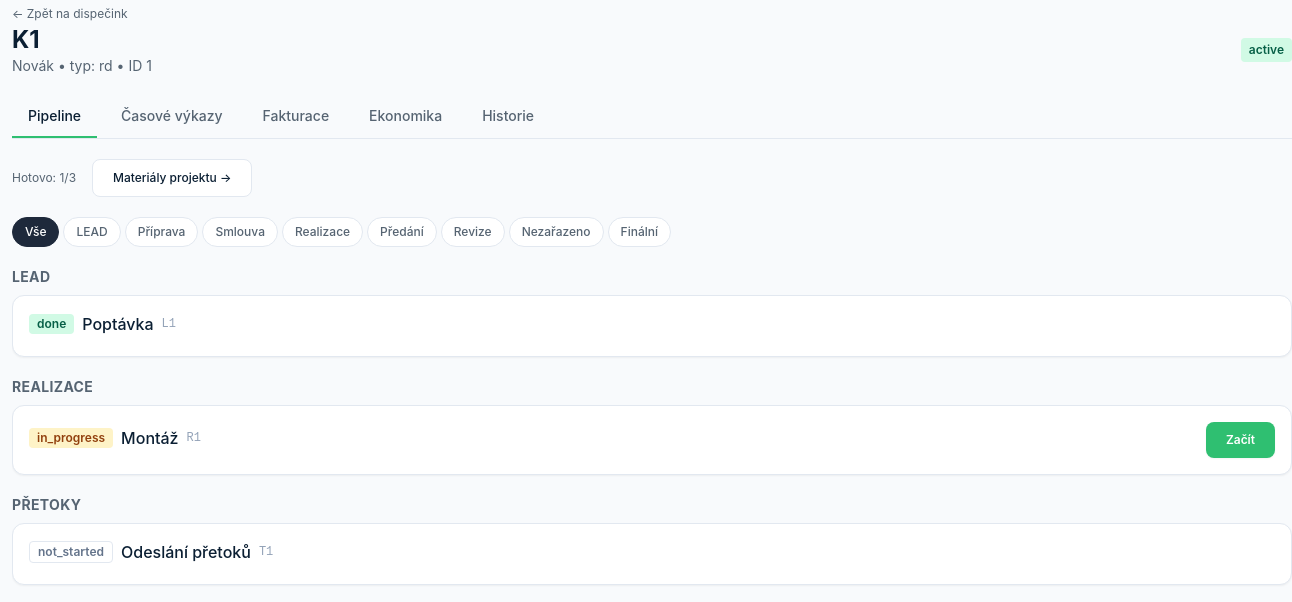
Scenario: PipelineDetail — sub-taby fází › klik na tab fáze filtruje sekce
Expected: the text "Montáž" is shown, top-left (121, 426), bottom-right (179, 450)
Click the button "LEAD".
click(92, 232)  # box top-left (64, 217), bottom-right (121, 247)
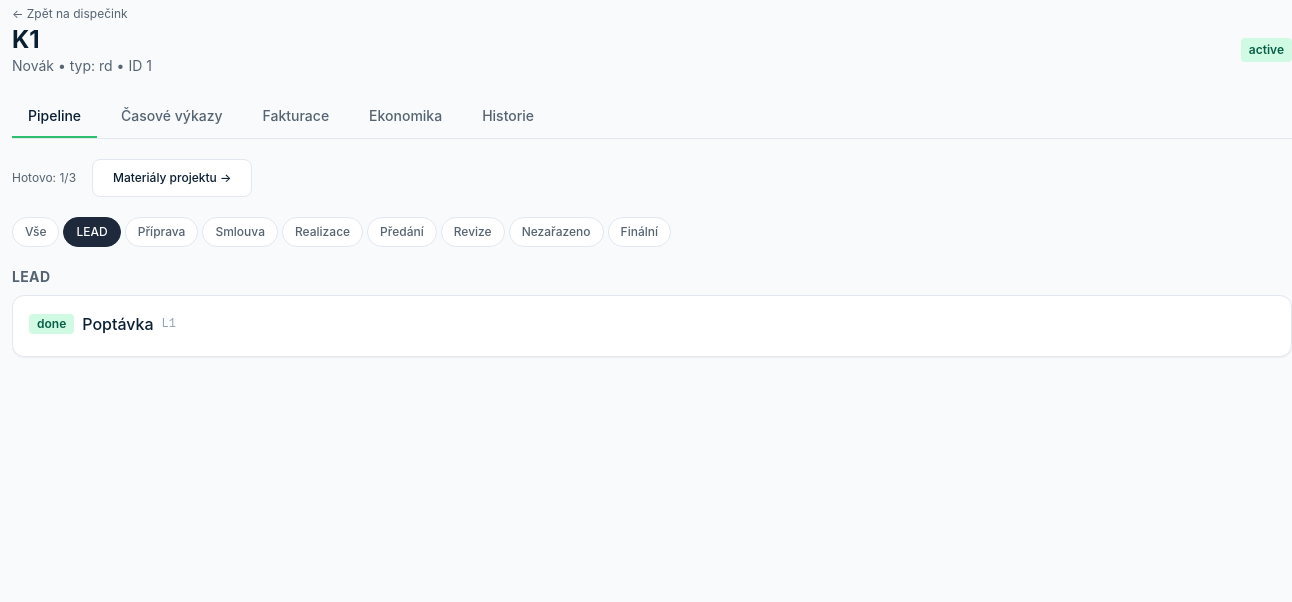
Expected: the text "Poptávka" is shown, top-left (82, 312), bottom-right (154, 336)
Result: the text "Montáž" is gone
Result: the text "Odeslání přetoků" is gone
